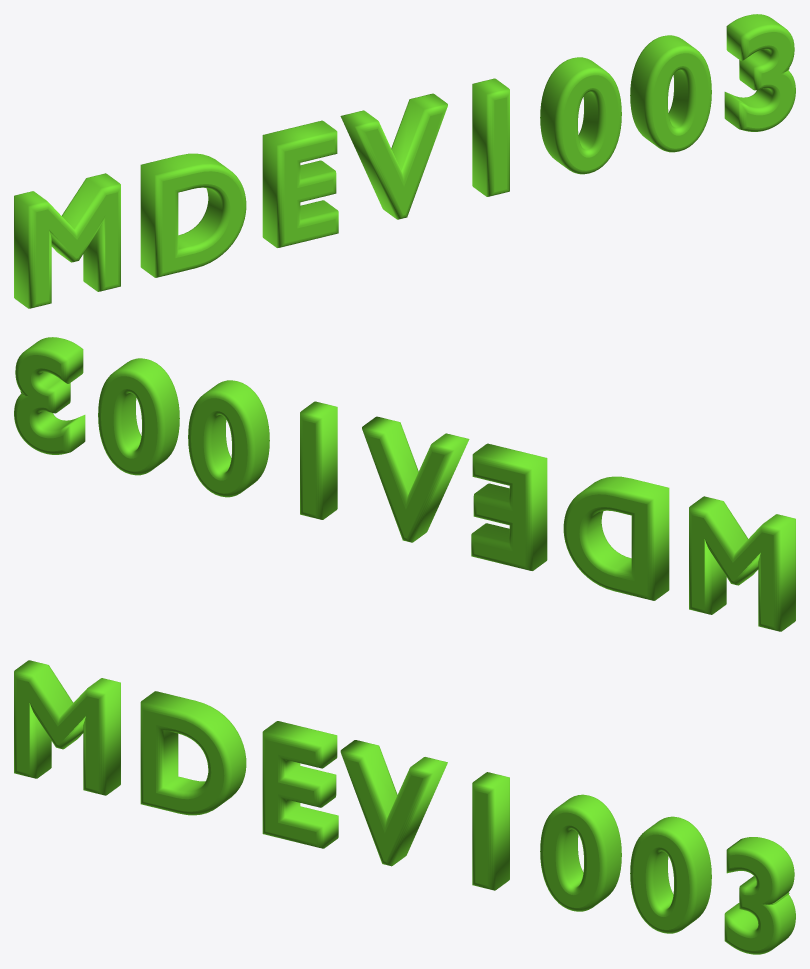
Rendered from NameIn3D.fbx.
3 renders of one model, top to bottom at view 1: azimuth 30°, elevation 25°; view 2: azimuth 150°, elevation 25°; view 3: azimuth 330°, elevation 25°, orthographic.
Visible parts, largest first — view 1: Text; view 2: Text; view 3: Text.
Part boxes in pixels (box(x1,y1,x2,y2)): Text: box(14, 14, 795, 308); Text: box(14, 337, 795, 631); Text: box(14, 660, 795, 954).
Bounding box in the file's own units: 597 × 78.03 × 26.
